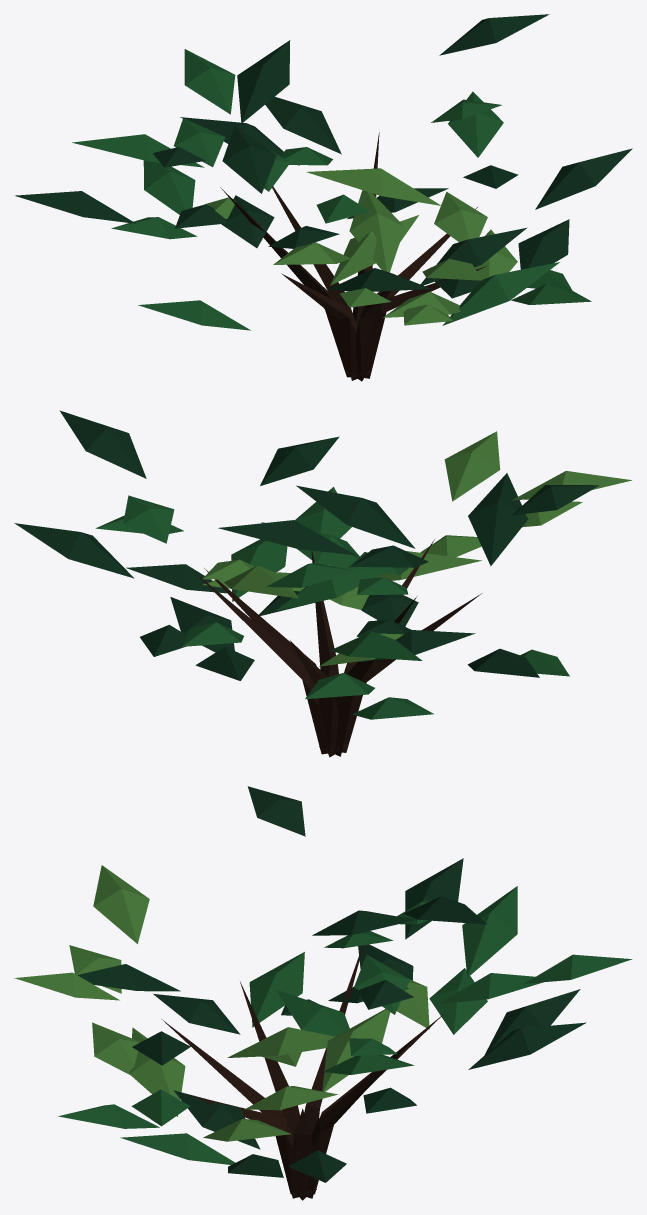
Rendered from Arbusto_folhoso_LOD1.fbx.
The picture shows the model from 3 angles, top to bottom: view 1: azimuth 30°, elevation 25°; view 2: azimuth 150°, elevation 25°; view 3: azimuth 270°, elevation 25°; orthographic projection. The views are drawn at different scales.
Parts seen in each view (by area): view 1: Arbusto_folhoso_LOD1; view 2: Arbusto_folhoso_LOD1; view 3: Arbusto_folhoso_LOD1.
Part boxes in pixels (x1,y1,x2,y2): Arbusto_folhoso_LOD1: [15, 14, 632, 381]; Arbusto_folhoso_LOD1: [14, 410, 631, 757]; Arbusto_folhoso_LOD1: [14, 786, 632, 1200].
Bounding box in the file's own units: 252 × 126 × 233.
1 material, 1 textured.
